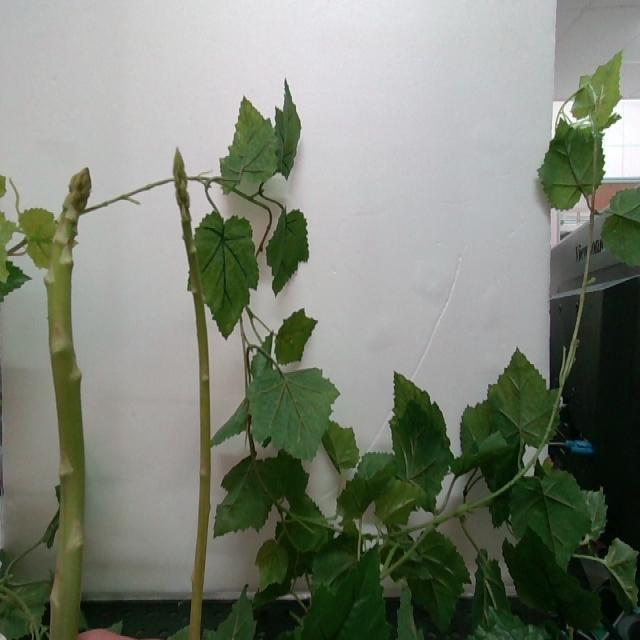aspargus: (43, 166, 92, 640), (173, 145, 212, 640)
